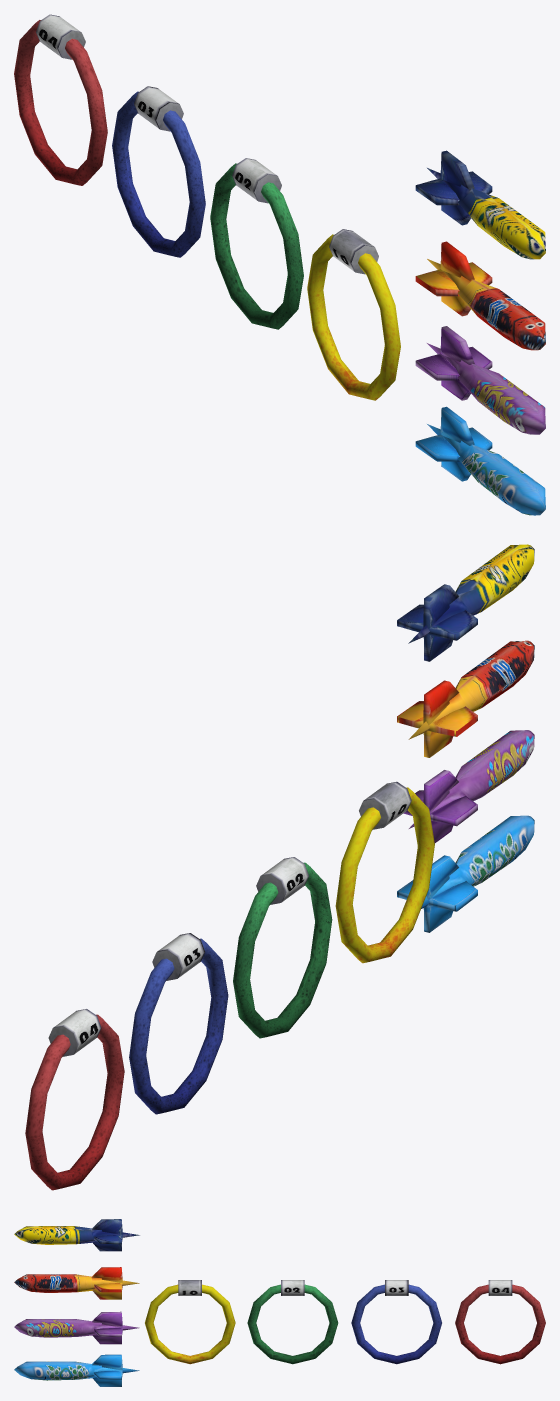
File: ringsAndDarts.fbx
3 views of the same model, one above another, from view 1: azimuth 30°, elevation 25°; view 2: azimuth 150°, elevation 25°; view 3: azimuth 270°, elevation 25° (orthographic). The views are drawn at different scales.
Parts seen in each view (by area): view 1: Torus.005, Torus.006, Torus.004, Torus.007, Plane.036, Plane.034, Plane.037, Plane.035; view 2: Torus.006, Torus.004, Torus.005, Torus.007, Plane.037, Plane.036, Plane.034, Plane.035; view 3: Plane.034, Torus.007, Torus.004, Torus.005, Torus.006, Plane.036, Plane.035, Plane.037.
Part boxes in pixels (x1,y1,x2,y2): Torus.005: [210, 158, 303, 329]; Torus.006: [112, 86, 205, 257]; Torus.004: [307, 229, 400, 400]; Torus.007: [14, 14, 107, 185]; Plane.036: [415, 241, 545, 350]; Plane.034: [415, 406, 545, 515]; Plane.037: [415, 150, 545, 259]; Plane.035: [415, 326, 545, 434]; Torus.006: [129, 933, 228, 1114]; Torus.004: [335, 781, 434, 963]; Torus.005: [233, 857, 332, 1038]; Torus.007: [25, 1009, 124, 1190]; Plane.037: [397, 544, 534, 661]; Plane.036: [397, 640, 534, 757]; Plane.034: [397, 815, 534, 932]; Plane.035: [403, 730, 534, 843]; Plane.034: [14, 1354, 139, 1386]; Torus.007: [455, 1280, 545, 1364]; Torus.004: [145, 1280, 235, 1364]; Torus.005: [247, 1280, 338, 1364]; Torus.006: [351, 1280, 441, 1364]; Plane.036: [14, 1267, 139, 1299]; Plane.035: [14, 1311, 139, 1344]; Plane.037: [14, 1219, 139, 1251].
Bounding box in the file's own units: 13.28 × 59 × 171.
Materials: 1 (1 with a texture image).
